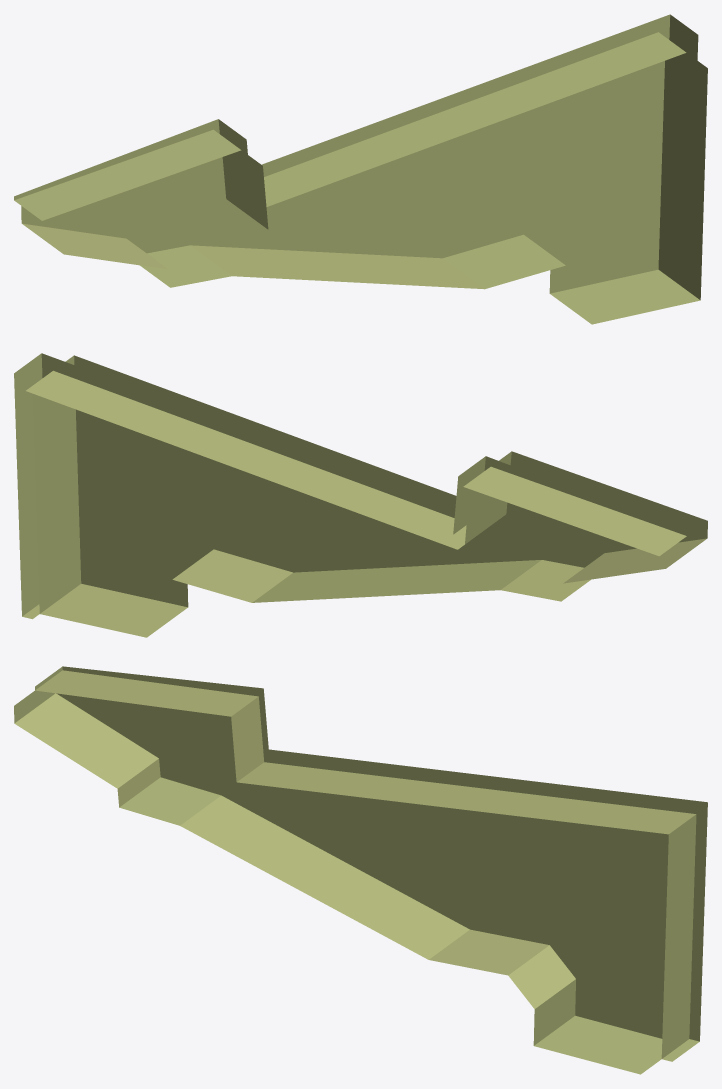
3 renders of one model, top to bottom at view 1: azimuth 30°, elevation 25°; view 2: azimuth 150°, elevation 25°; view 3: azimuth 330°, elevation 25°, orthographic.
Visible parts, largest first — view 1: 0_2_0_1_2_2_1; view 2: 0_2_0_1_2_2_1; view 3: 0_2_0_1_2_2_1.
Boxes of the visible parts, <box> form: 0_2_0_1_2_2_1: <box>14,14,707,324</box>; 0_2_0_1_2_2_1: <box>14,353,707,637</box>; 0_2_0_1_2_2_1: <box>14,666,707,1074</box>.
Size of the model in its own units: 80.78 by 29.52 by 10.54.
